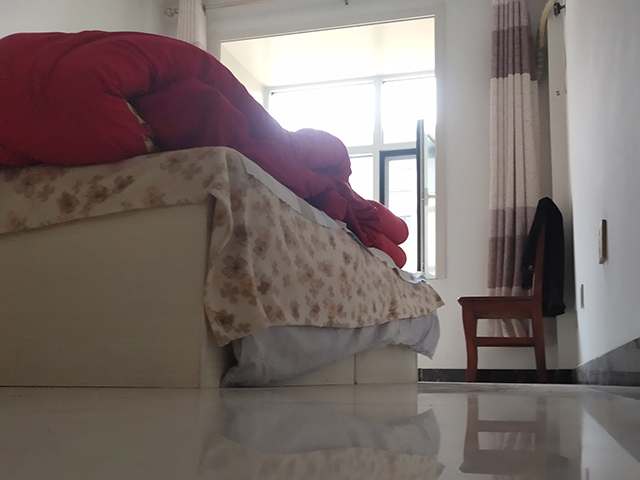bed: (1, 144, 447, 391)
curtain: (490, 2, 534, 345)
stool: (456, 207, 549, 384)
